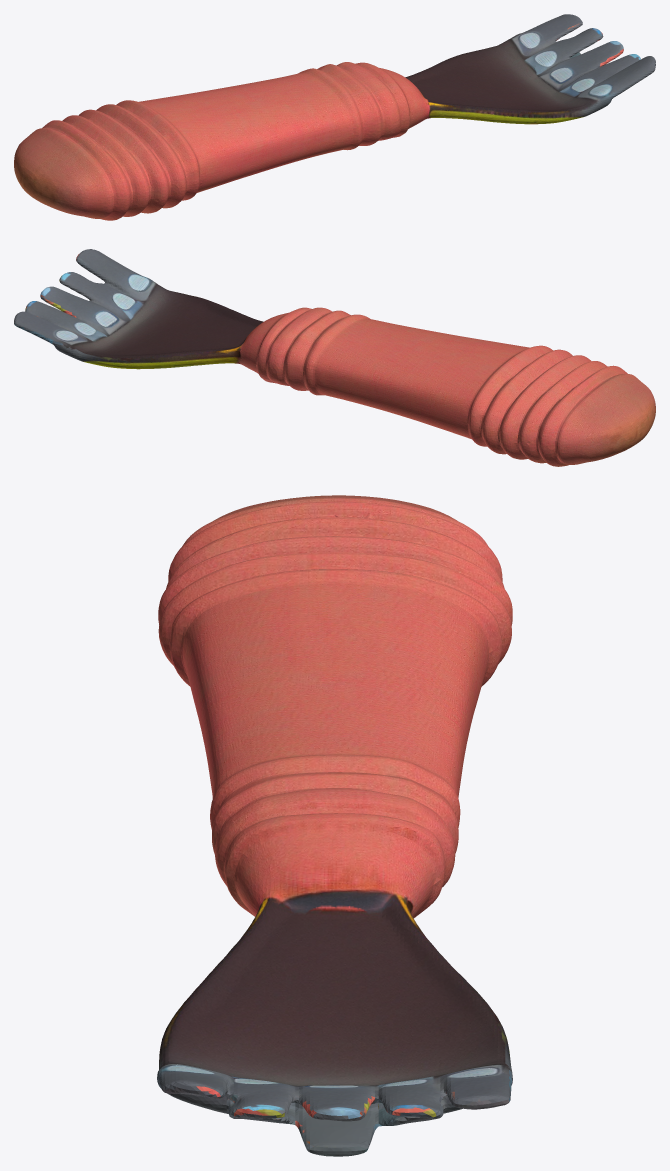
The model's file is image_0000_segmented.glb.
3 views of the same model, one above another, from view 1: azimuth 30°, elevation 25°; view 2: azimuth 150°, elevation 25°; view 3: azimuth 270°, elevation 25° (orthographic). The views are drawn at different scales.
Visible parts, largest first — view 1: tmp3ue5ieeb.ply; view 2: tmp3ue5ieeb.ply; view 3: tmp3ue5ieeb.ply.
Boxes of the visible parts, x1,y1,x2,y2 form: tmp3ue5ieeb.ply: (14, 14, 655, 220); tmp3ue5ieeb.ply: (14, 249, 655, 466); tmp3ue5ieeb.ply: (157, 495, 512, 1156).
Bounding box in the file's own units: 1.99 × 0.2547 × 0.5161.
1 material, 1 textured.
